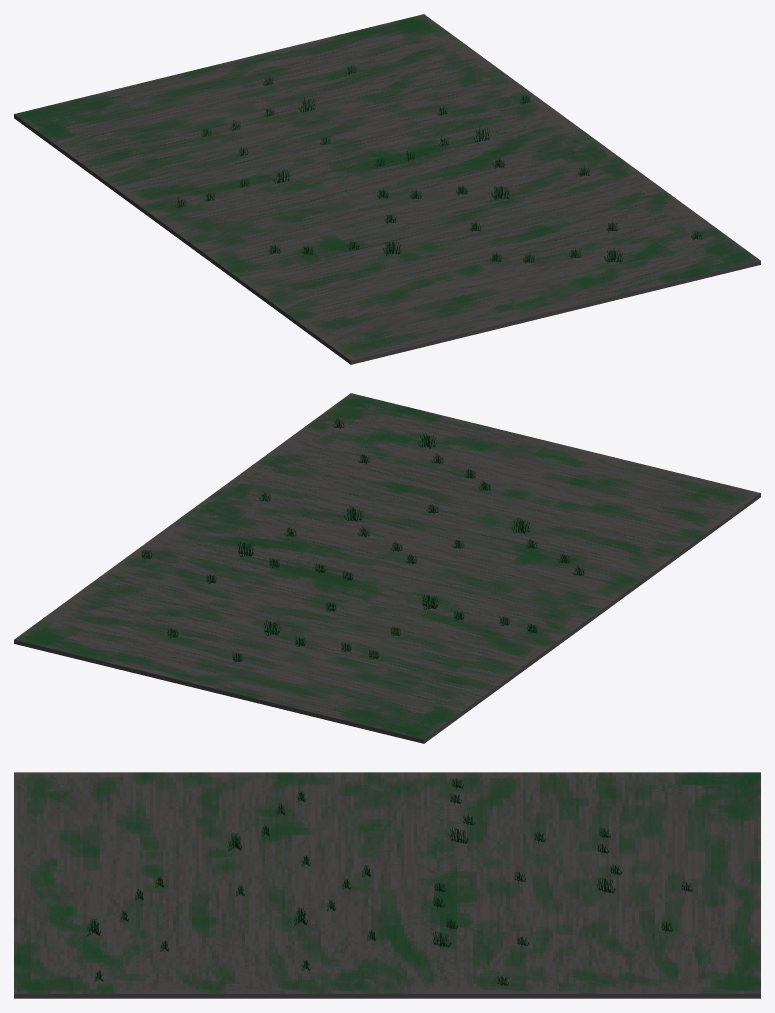
File: Ground_Market.gltf
The picture shows the model from 3 angles, top to bottom: view 1: azimuth 30°, elevation 25°; view 2: azimuth 150°, elevation 25°; view 3: azimuth 270°, elevation 25°; orthographic projection. The views are drawn at different scales.
Parts seen in each view (by area): view 1: cube; view 2: cube; view 3: cube.
Boxes of the visible parts, x1,y1,x2,y2 form: cube: [14, 14, 760, 364]; cube: [14, 393, 760, 743]; cube: [14, 772, 760, 998].
Bounding box in the file's own units: 0.65 × 0.0275 × 0.925.
2 materials, 2 textured.
